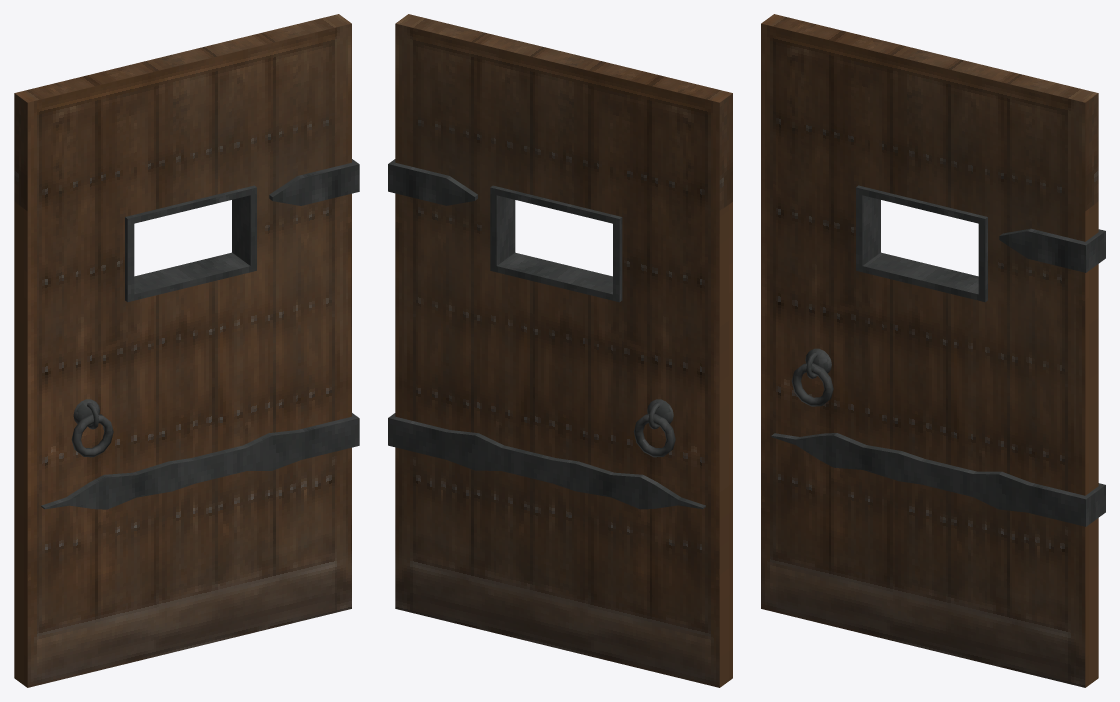
The model's file is door_windowed.gltf.
The picture shows the model from 3 angles, left to right: view 1: azimuth 30°, elevation 25°; view 2: azimuth 150°, elevation 25°; view 3: azimuth 330°, elevation 25°; orthographic projection.
Parts seen in each view (by area): view 1: DoorWindowed; view 2: DoorWindowed; view 3: DoorWindowed.
Boxes of the visible parts, x1=… form: DoorWindowed: x1=14, y1=14, x2=359, y2=687; DoorWindowed: x1=388, y1=14, x2=732, y2=687; DoorWindowed: x1=761, y1=14, x2=1105, y2=687.
Size of the model in its own units: 1.35 by 2.3 by 0.261.
1 material, 1 textured.
